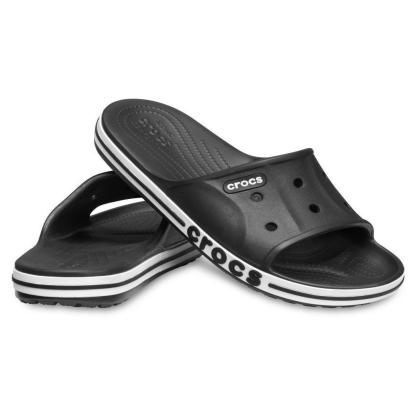ankle: (202, 137, 215, 144)
heel: (116, 106, 130, 114)
pinky: (307, 287, 318, 300)
right_foot: (101, 102, 403, 307)
toe: (381, 259, 394, 273)
